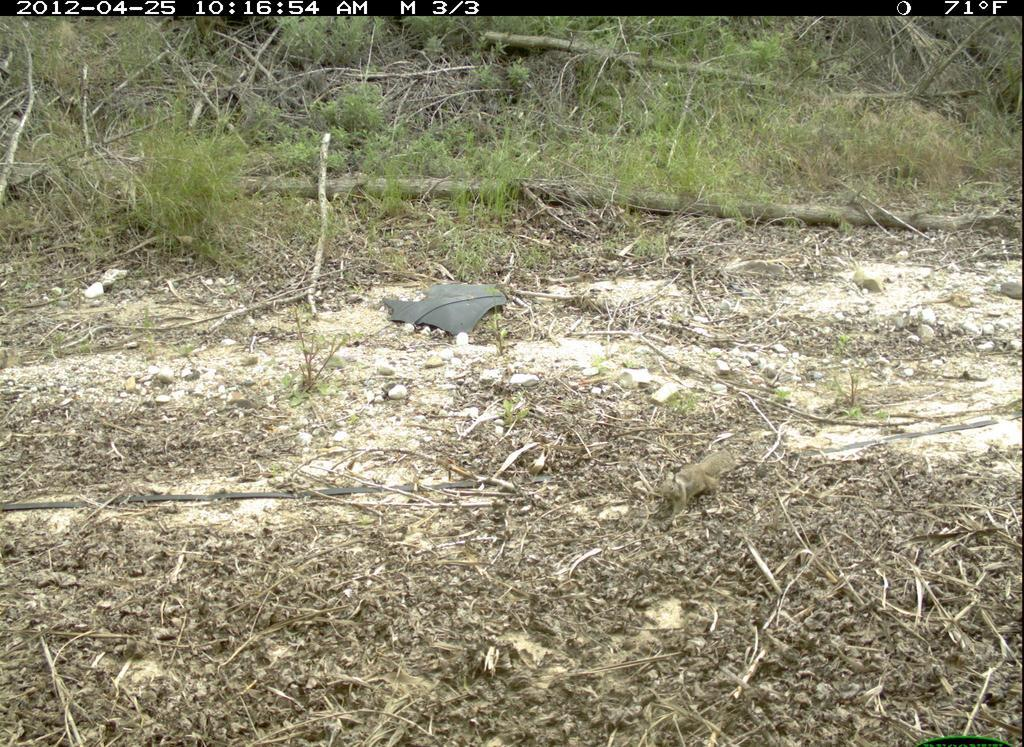squirrel: (649, 440, 742, 527)
